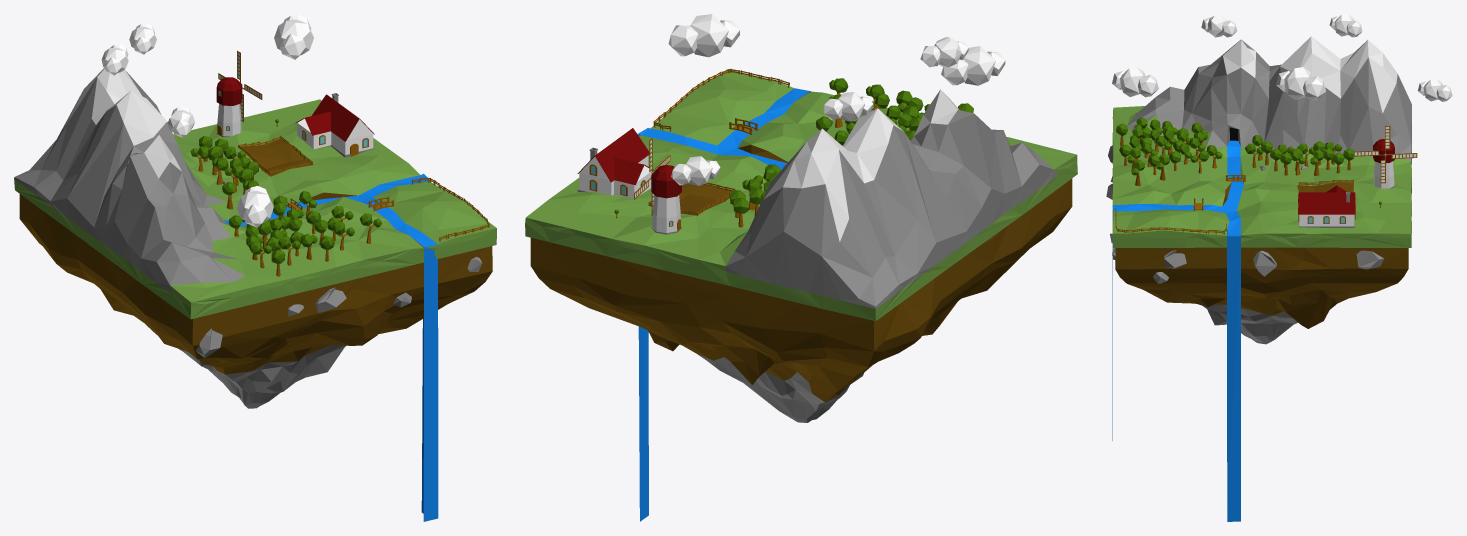
File: island.glb
3 renders of one model, left to right at view 1: azimuth 30°, elevation 25°; view 2: azimuth 150°, elevation 25°; view 3: azimuth 270°, elevation 25°, orthographic. The views are drawn at different scales.
Parts seen in each view (by area): view 1: Plane, Cube2591, Cylinder, Cloud004, Cloud003, Cloud002, Cloud, Cloud001; view 2: Plane, Cube2591, Cloud004, Cylinder, Cloud003, Cloud002, Cloud, Cloud001; view 3: Plane, Cube2591, Cloud004, Cloud003, Cylinder, Cube004, Cloud001, Cloud, Cloud002.
Part boxes in pixels (x1=…): Plane: x1=14, y1=68, x2=496, y2=521; Cube2591: x1=295, y1=93, x2=374, y2=157; Cylinder: x1=216, y1=77, x2=242, y2=137; Cloud004: x1=274, y1=14, x2=313, y2=59; Cloud003: x1=237, y1=185, x2=273, y2=227; Cloud002: x1=101, y1=44, x2=128, y2=75; Cloud: x1=129, y1=23, x2=156, y2=54; Cloud001: x1=167, y1=106, x2=194, y2=137; Plane: x1=525, y1=69, x2=1077, y2=521; Cube2591: x1=577, y1=128, x2=654, y2=198; Cloud004: x1=668, y1=14, x2=739, y2=57; Cylinder: x1=651, y1=165, x2=681, y2=234; Cloud003: x1=941, y1=46, x2=1005, y2=85; Cloud002: x1=823, y1=92, x2=873, y2=121; Cloud: x1=671, y1=156, x2=720, y2=185; Cloud001: x1=920, y1=37, x2=968, y2=67; Plane: x1=1106, y1=36, x2=1411, y2=521; Cube2591: x1=1298, y1=185, x2=1355, y2=227; Cloud004: x1=1276, y1=67, x2=1326, y2=100; Cloud003: x1=1112, y1=67, x2=1158, y2=97; Cylinder: x1=1373, y1=139, x2=1394, y2=188; Cube004: x1=1353, y1=125, x2=1417, y2=183; Cloud001: x1=1201, y1=14, x2=1237, y2=37; Cloud: x1=1418, y1=78, x2=1452, y2=101; Cloud002: x1=1329, y1=14, x2=1362, y2=37.
Size of the model in its own units: 2 by 2.99 by 2.26.
